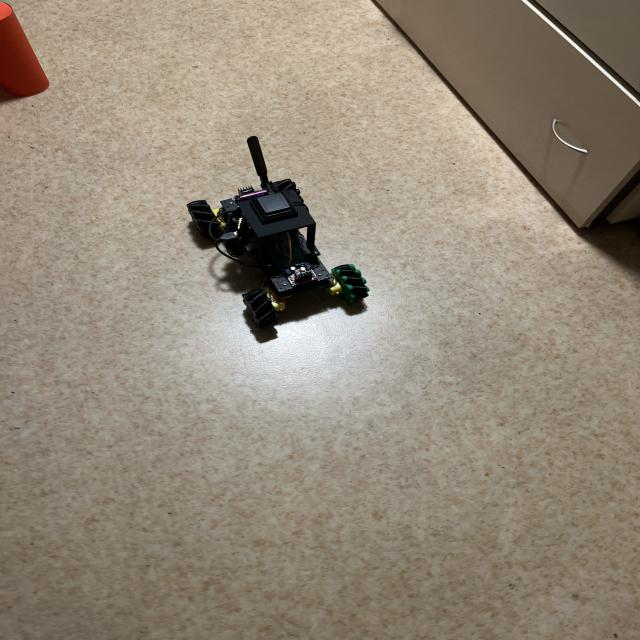robot: (187, 136, 369, 327)
